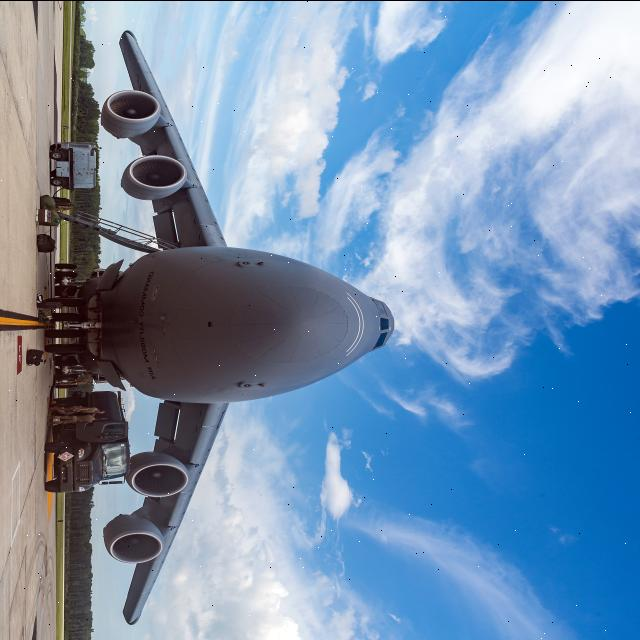C5: (0, 0, 428, 632)
